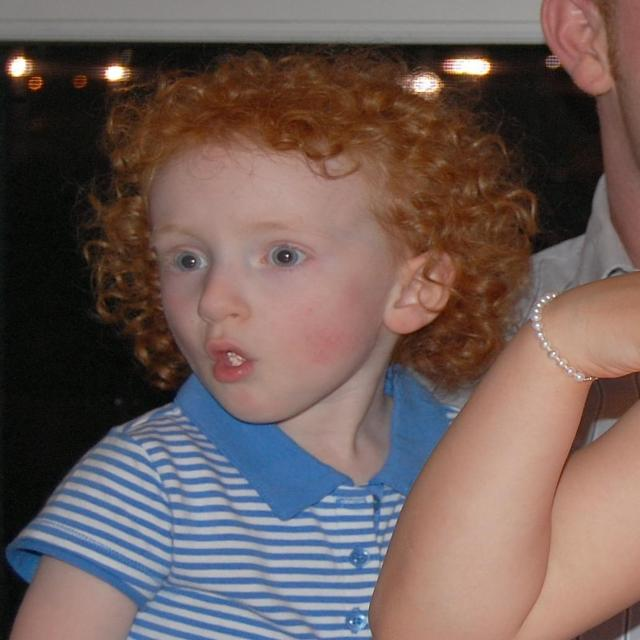no-glass: (162, 244, 325, 282)
